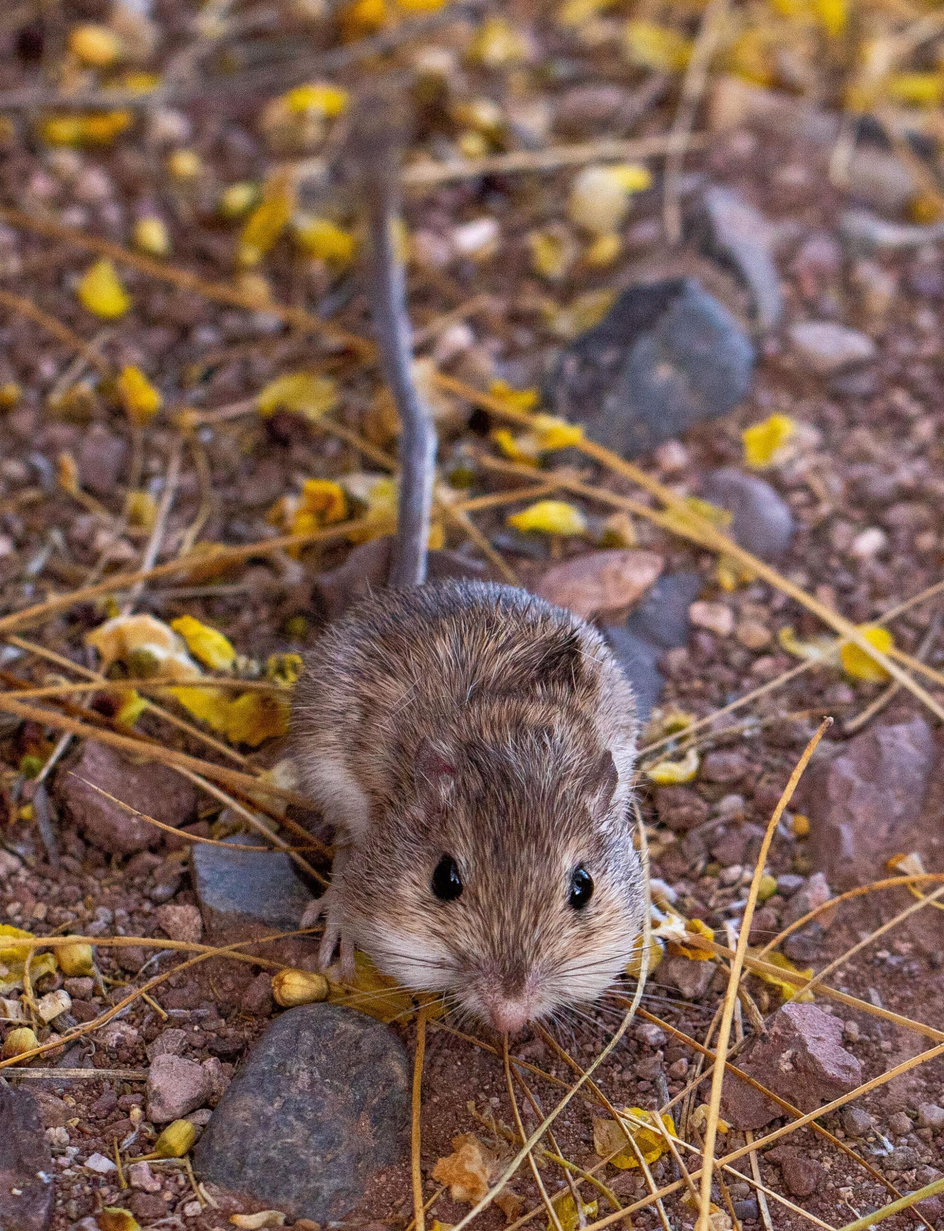rat: (292, 206, 646, 1030)
